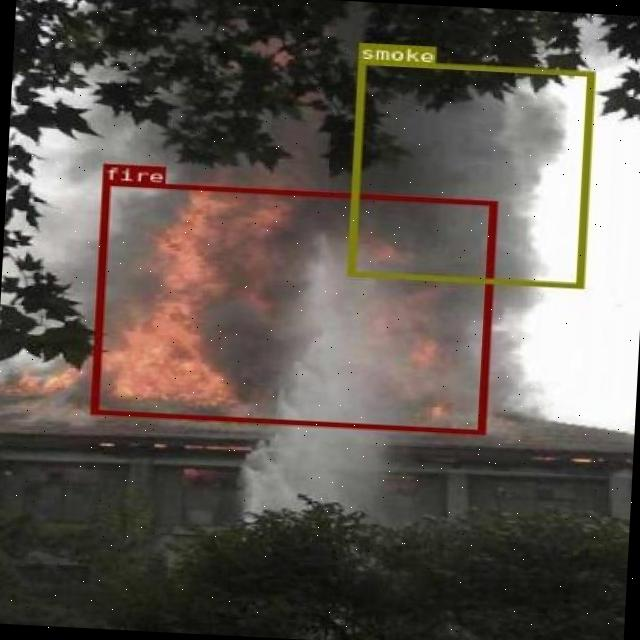fire: (90, 180, 497, 434)
smoke: (346, 59, 594, 288)
